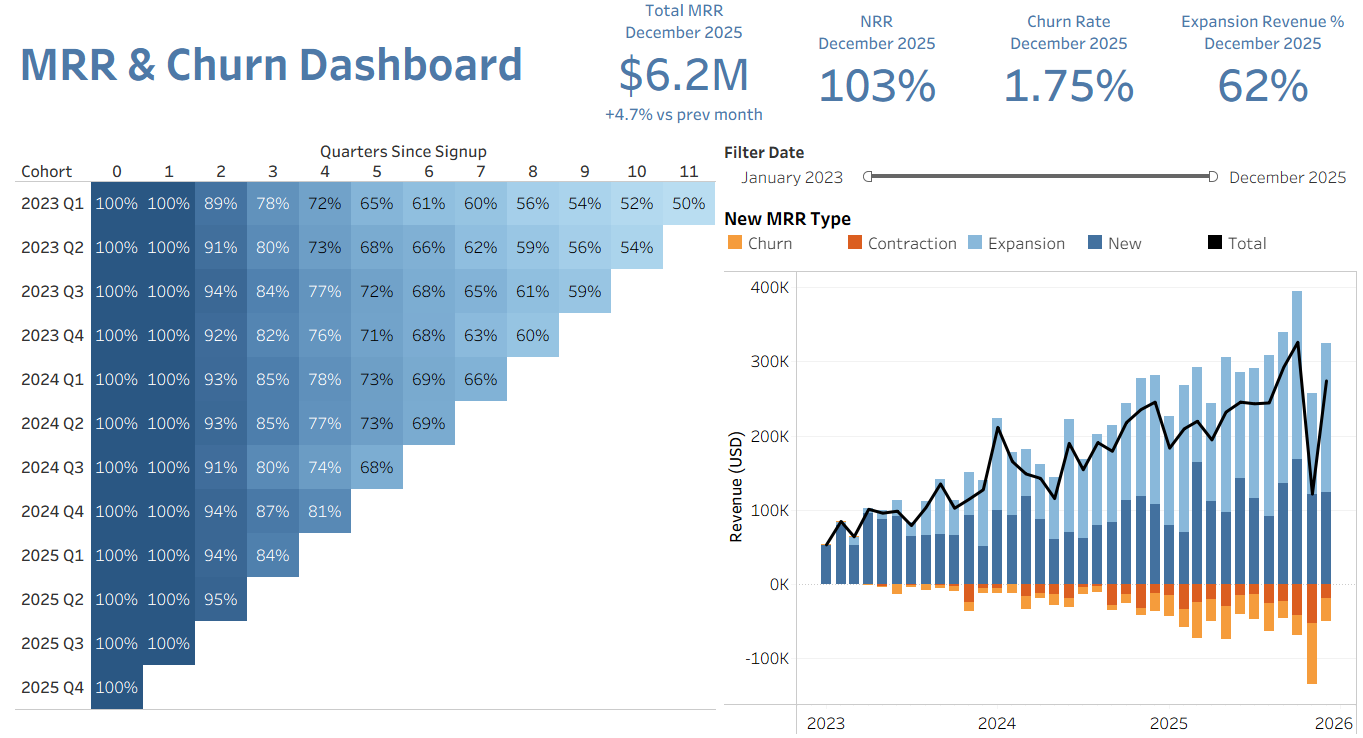

The page's visual inventory and layout, read from the dashboard file:
{"tool":"tableau","page":{"name":"Dashboard","canvas":[1366,768],"ordinal":0},"visuals":[{"type":"text","box":[8,8,548,150.4]},{"type":"worksheet","title":"Last Month MRR","mark":"Automatic","box":[556,8,238,150.4]},{"type":"worksheet","title":"NRR","mark":"Automatic","box":[794,8,170,150.4]},{"type":"worksheet","title":"Churn Rate","mark":"Automatic","box":[964,8,193,150.4]},{"type":"worksheet","title":"Expansion Revenue %","mark":"Automatic","box":[1157,8,201,150.4]},{"type":"worksheet","title":"Cohort Analysis","mark":"Square","rows":["cohort_quarter"],"cols":["quarters_since_signup"],"box":[8,158.4,689,601.6]},{"type":"filter","title":"MRR Changes","param":"[federated.09ik1pp0rydhyb1bz4hq50ritgrz].[tmn:month:qk]","box":[697,158.4,661,64]},{"type":"legend","title":"MRR Changes","param":"[federated.09ik1pp0rydhyb1bz4hq50ritgrz].[:Measure Names]","box":[697,222.4,661,79]},{"type":"worksheet","title":"MRR Changes","mark":"Line","rows":["total"],"cols":["month"],"box":[697,301.4,661,458.6]}]}

Visuals, with their boxes on the page's 1366x768 design canvas (x1, y1, x2, y2). These are canvas units, not pixel positions in the 1363x738 screenshot, which may show the page scaled, cropped or inside an application window:
text: [left=8, top=8, right=556, bottom=158]
"Last Month MRR" worksheet: [left=556, top=8, right=794, bottom=158]
"NRR" worksheet: [left=794, top=8, right=964, bottom=158]
"Churn Rate" worksheet: [left=964, top=8, right=1157, bottom=158]
"Expansion Revenue %" worksheet: [left=1157, top=8, right=1358, bottom=158]
"Cohort Analysis" worksheet (Square marks): [left=8, top=158, right=697, bottom=760]
"MRR Changes" filter: [left=697, top=158, right=1358, bottom=222]
"MRR Changes" legend: [left=697, top=222, right=1358, bottom=301]
"MRR Changes" worksheet (Line marks): [left=697, top=301, right=1358, bottom=760]
